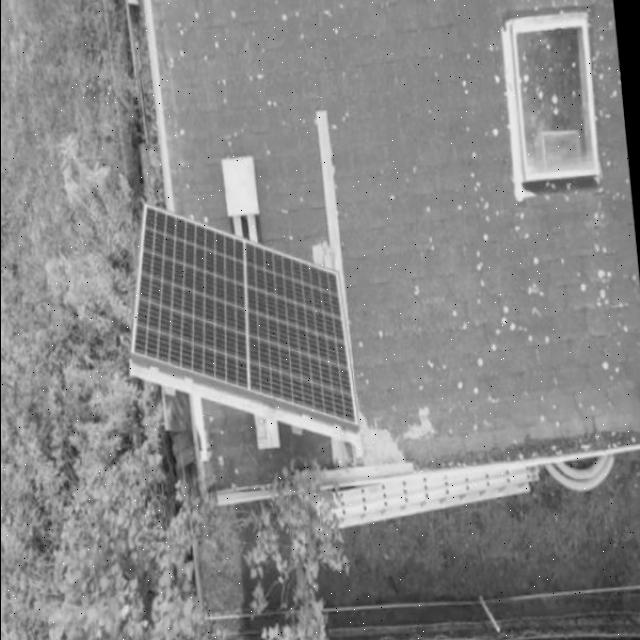Normal Solar Panel: (121, 194, 357, 450)
